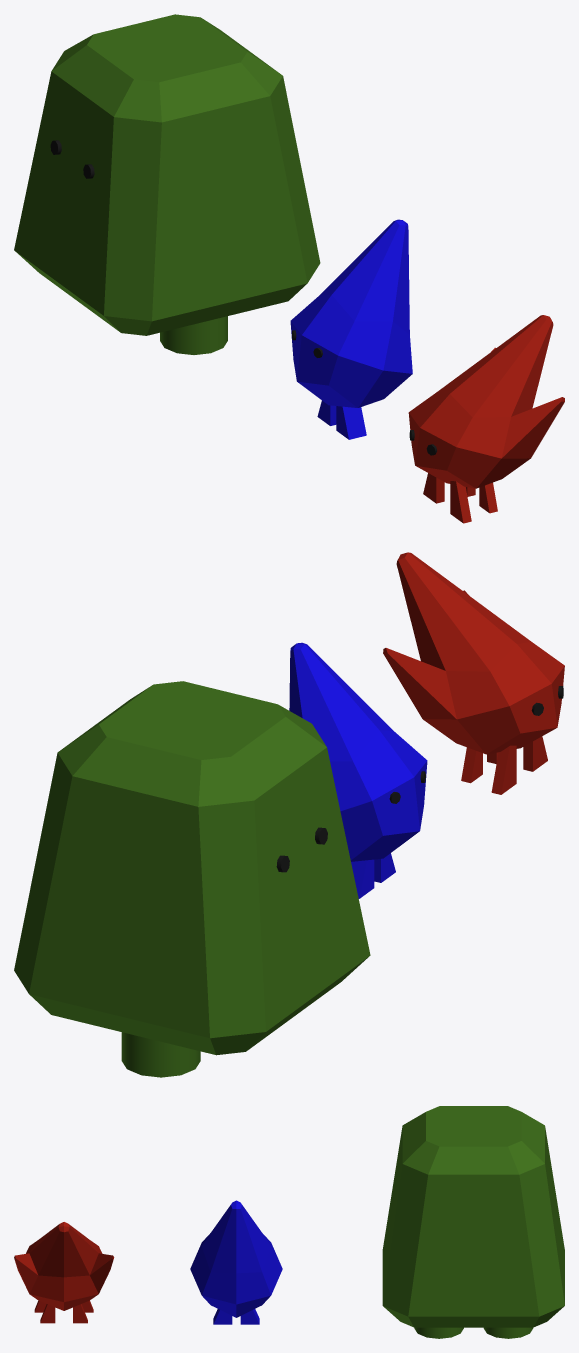
File: LightboxMascots.fbx
The picture shows the model from 3 angles, top to bottom: view 1: azimuth 30°, elevation 25°; view 2: azimuth 150°, elevation 25°; view 3: azimuth 270°, elevation 25°; orthographic projection. The views are drawn at different scales.
Parts seen in each view (by area): view 1: Box001, Object002, Object001; view 2: Box001, Object002, Object001; view 3: Box001, Object001, Object002.
Boxes of the visible parts, x1,y1,x2,y2 form: Box001: (14,14,320,354); Object002: (408,315,564,523); Object001: (290,219,412,439); Box001: (14,681,370,1077); Object002: (383,552,564,794); Object001: (289,642,427,898); Box001: (382,1106,564,1338); Object001: (190,1200,282,1324); Object002: (14,1222,114,1323).
Size of the model in its own units: 25.33 by 30.81 by 76.51.
